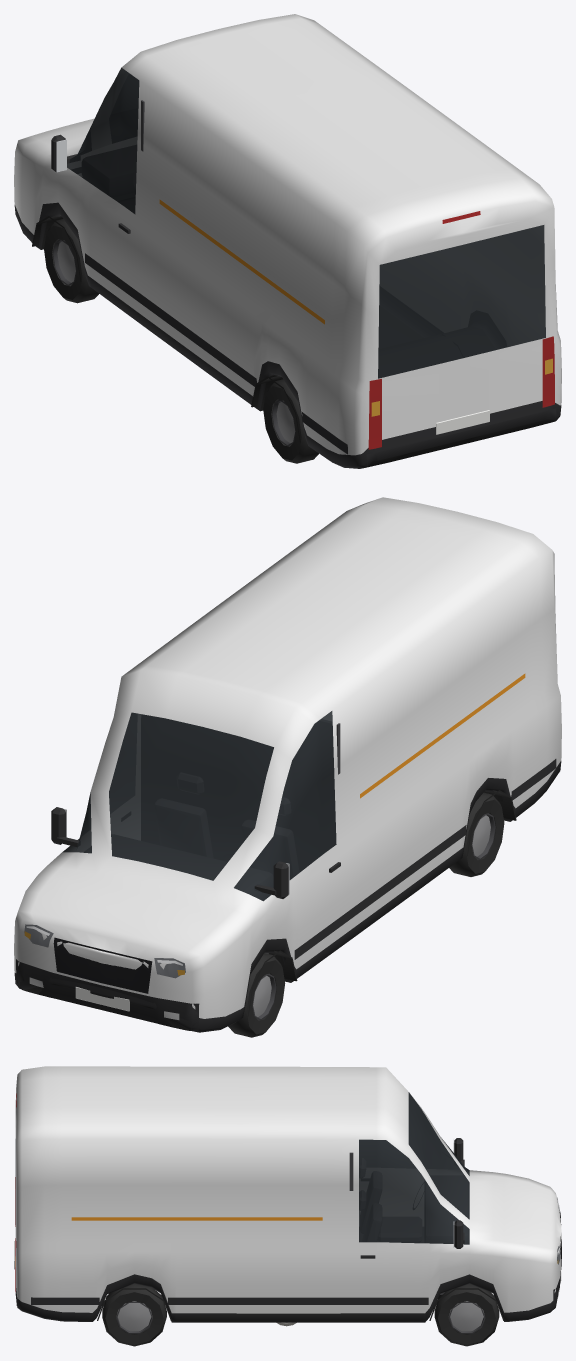
The model's file is van_lod1.glb.
3 renders of one model, top to bottom at view 1: azimuth 30°, elevation 25°; view 2: azimuth 150°, elevation 25°; view 3: azimuth 270°, elevation 25°, orthographic. The views are drawn at different scales.
Visible parts, largest first — view 1: body, wheelmesh_2, wheelmesh_0; view 2: body, wheelmesh_0, wheelmesh_2; view 3: body, wheelmesh_3, wheelmesh_1.
Boxes of the visible parts, box(x1,y1,x2,y2) form: body: box(14, 14, 561, 468); wheelmesh_2: box(263, 379, 318, 463); wheelmesh_0: box(44, 219, 98, 303); body: box(14, 497, 561, 1032); wheelmesh_0: box(228, 953, 285, 1037); wheelmesh_2: box(449, 792, 504, 876); body: box(14, 1066, 561, 1326); wheelmesh_3: box(102, 1283, 166, 1346); wheelmesh_1: box(434, 1283, 499, 1346).
Size of the model in its own units: 2.26 by 2.83 by 6.03.
